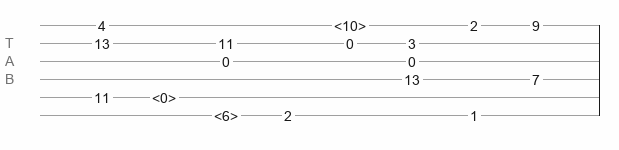0: (222, 54, 230, 64), (346, 36, 354, 46), (408, 54, 416, 64)
1: (470, 108, 478, 118)
11: (94, 90, 110, 100), (218, 36, 234, 46)
13: (94, 36, 110, 46), (404, 72, 420, 82)
2: (284, 108, 292, 118), (470, 18, 478, 28)
3: (408, 36, 416, 46)
4: (98, 18, 106, 28)
7: (532, 72, 540, 82)
9: (532, 18, 540, 28)
harmonic: (334, 18, 366, 28), (152, 90, 176, 100), (214, 108, 238, 118)
